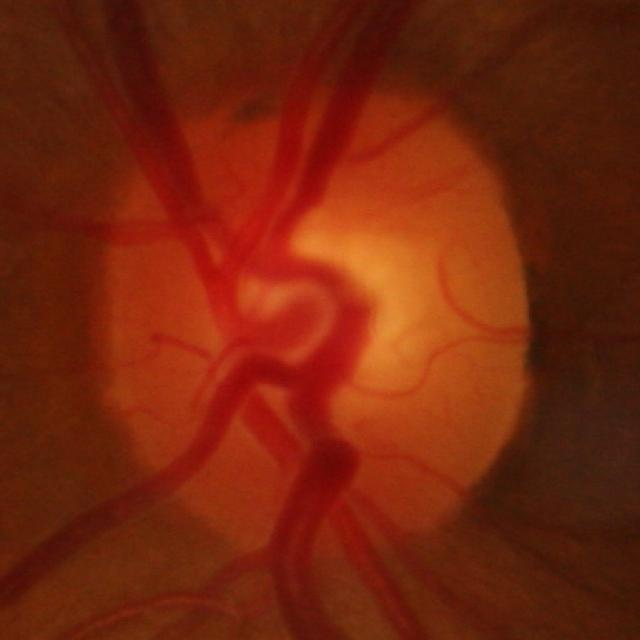OC: (241, 231, 418, 373)
OD: (94, 81, 518, 567)
